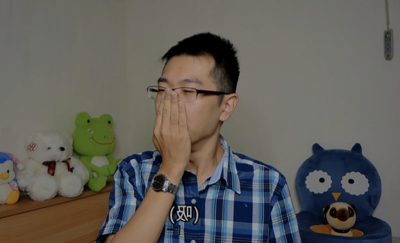with_mask: (153, 75, 219, 148)
